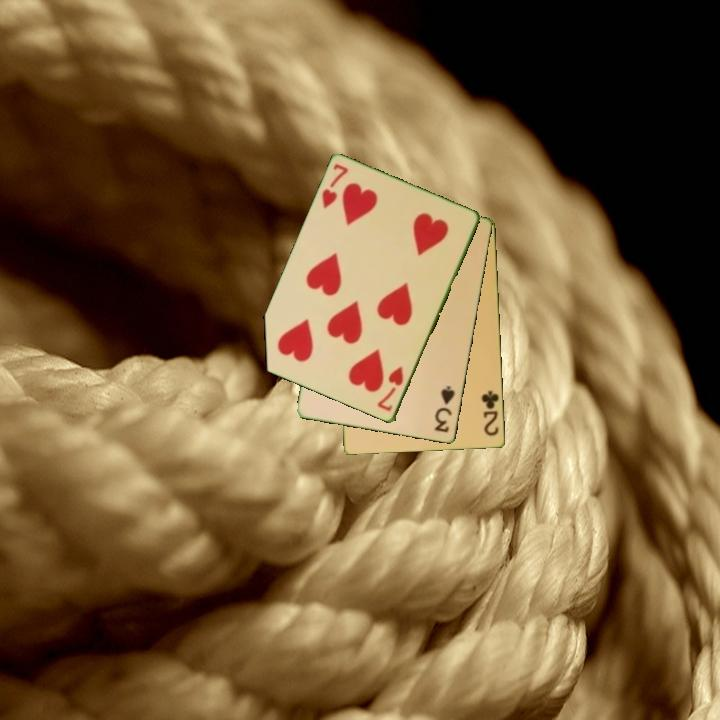2c: (478, 387, 502, 439)
3s: (431, 382, 458, 436)
7h: (374, 363, 407, 415), (318, 161, 351, 212)
